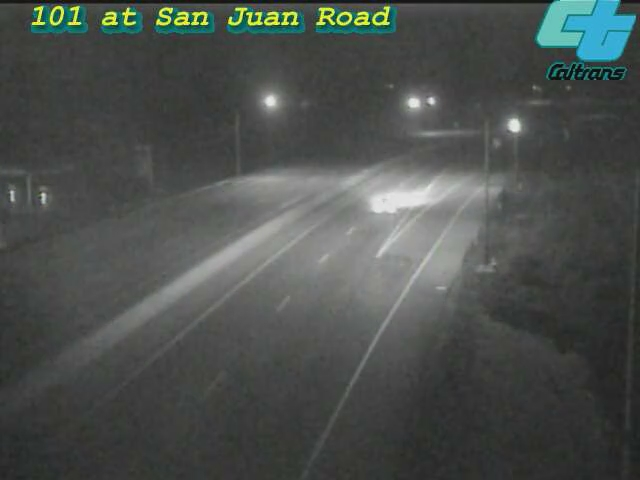vehicle: (347, 163, 427, 243), (490, 101, 540, 151)
